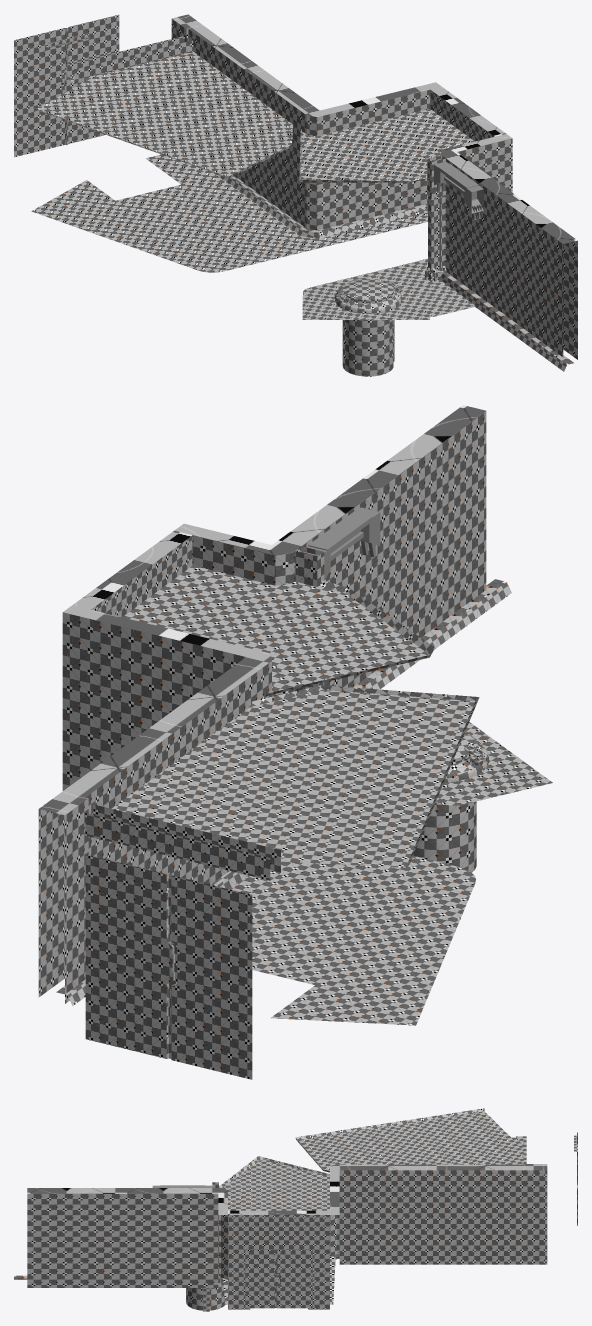
The model's file is Tutor_floor_Gameready.FBX.
3 views of the same model, one above another, from view 1: azimuth 30°, elevation 25°; view 2: azimuth 150°, elevation 25°; view 3: azimuth 270°, elevation 25° (orthographic). The views are drawn at different scales.
Parts seen in each view (by area): view 1: Plane106, sse; view 2: Plane106, sse; view 3: Plane106, sse.
Boxes of the visible parts, x1,y1,x2,y2 form: Plane106: [31, 14, 577, 376]; sse: [14, 14, 483, 303]; Plane106: [38, 405, 552, 1025]; sse: [85, 507, 486, 1079]; Plane106: [14, 1108, 547, 1311]; sse: [152, 1132, 577, 1282].
Size of the model in its own units: 622 by 349 by 1225.
2 materials, 1 textured.
